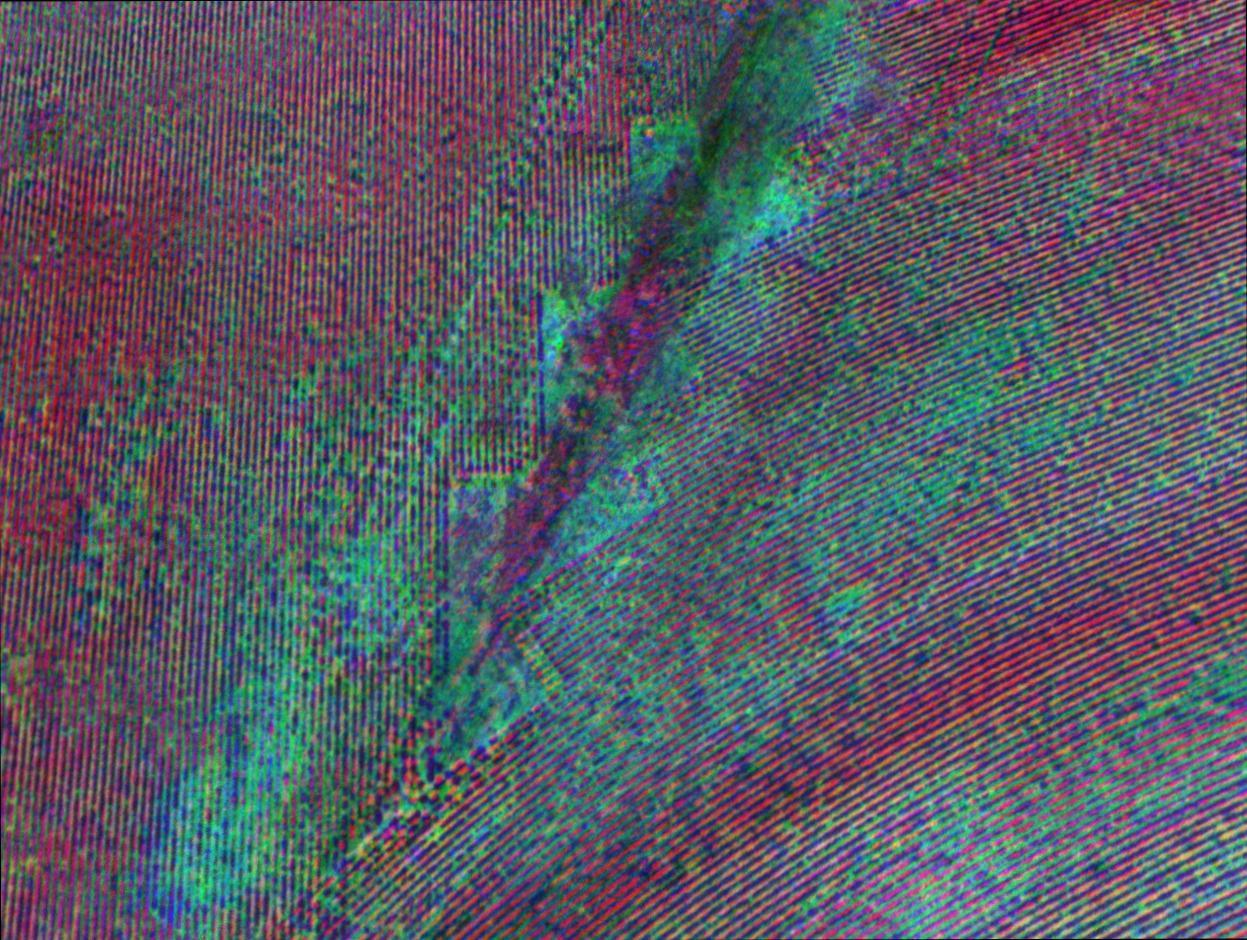dc: (313, 538, 419, 649), (176, 793, 269, 889), (506, 653, 588, 736), (808, 445, 887, 527), (528, 290, 569, 396), (751, 170, 808, 227), (628, 118, 684, 172)
